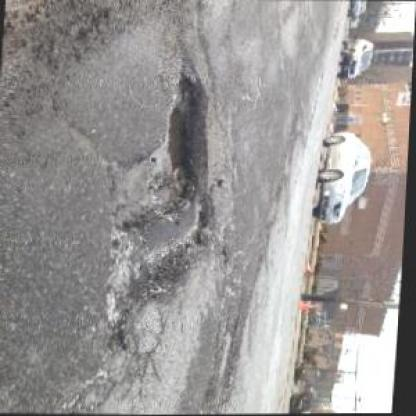pothole: (104, 74, 225, 324), (209, 319, 243, 388)
